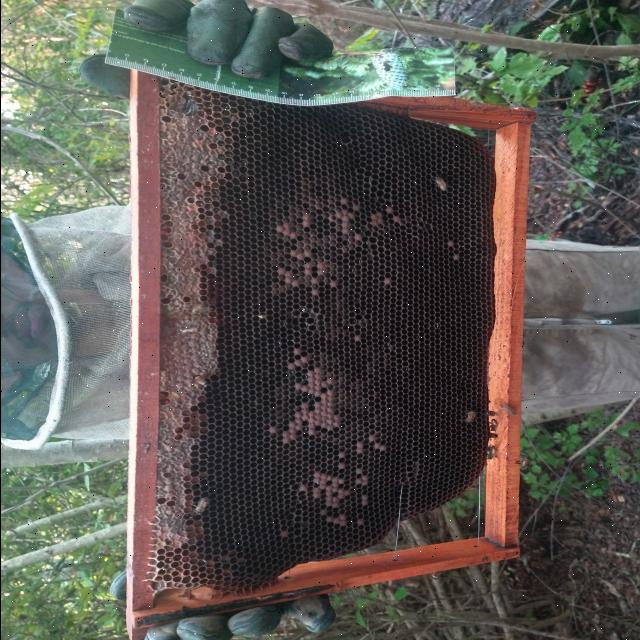cria: (269, 197, 401, 538)
marco: (165, 119, 490, 554)
